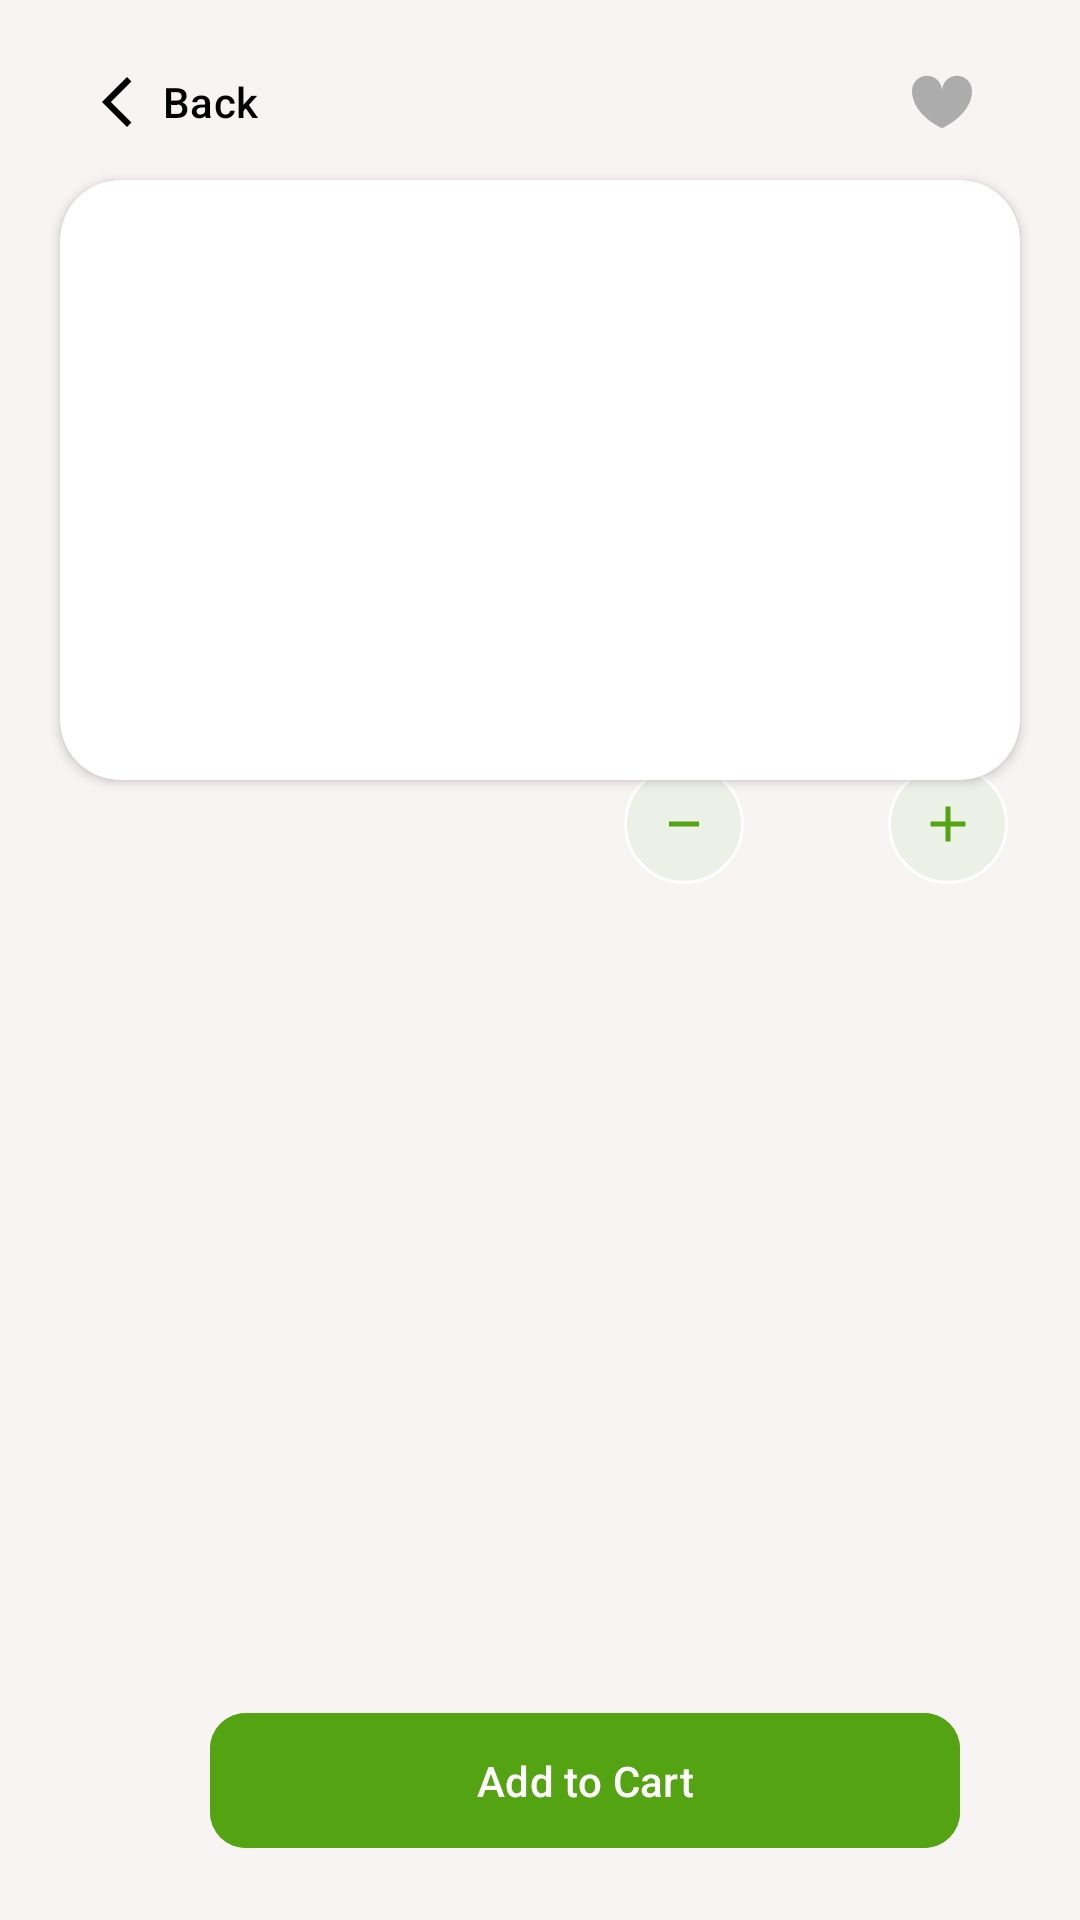

Locate icon controls on the screen. Image size 1080 x 1920, boxes as (x1, y1, x2, y2).
add: (876, 752, 1018, 884)
heart: (912, 76, 972, 128)
minus: (612, 752, 756, 884)
